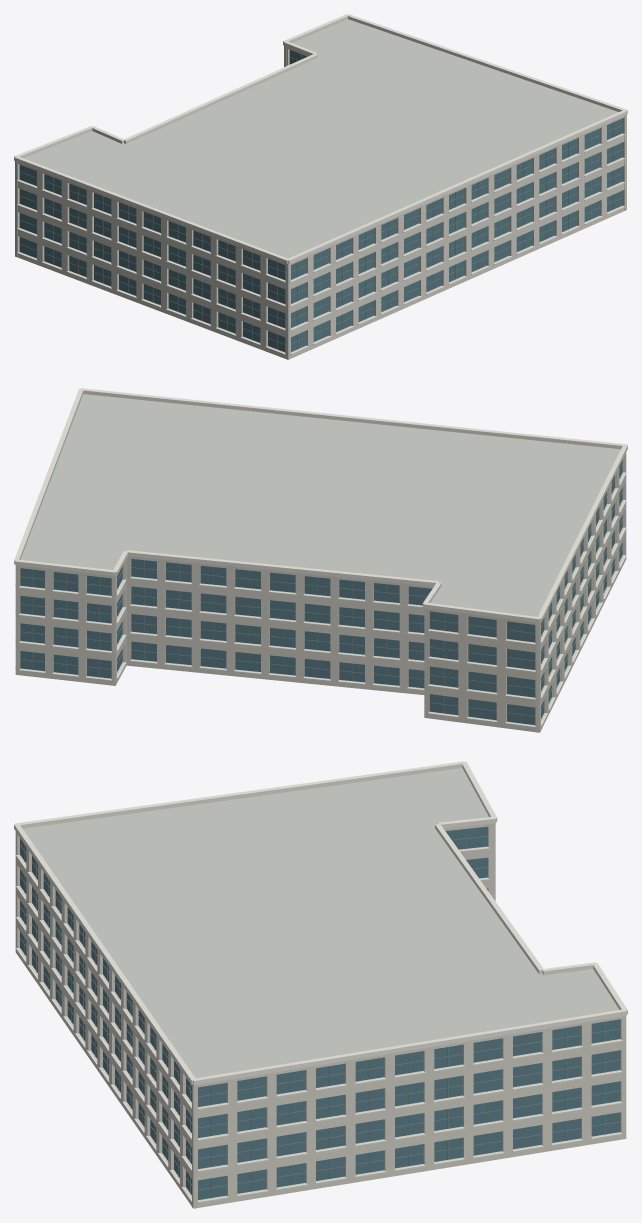
The picture shows the model from 3 angles, top to bottom: view 1: azimuth 30°, elevation 25°; view 2: azimuth 150°, elevation 25°; view 3: azimuth 270°, elevation 25°; orthographic projection. The views are drawn at different scales.
Visible parts, largest first — view 1: roof, wall, glass, trim, metal; view 2: roof, wall, glass, trim, metal; view 3: roof, wall, glass, trim, metal.
Part boxes in pixels (x1,y1,x2,y2): roof: (23, 19, 618, 258); wall: (15, 46, 626, 359); glass: (19, 50, 622, 352); trim: (14, 14, 627, 354); metal: (19, 54, 622, 349); roof: (20, 394, 620, 616); wall: (15, 453, 626, 732); glass: (20, 460, 622, 725); trim: (14, 388, 627, 727); metal: (20, 463, 623, 723); roof: (23, 768, 619, 1078); wall: (15, 823, 626, 1208); glass: (20, 826, 620, 1199); trim: (14, 761, 627, 1202); metal: (19, 829, 620, 1197).
Size of the model in its own units: 69.67 by 13.04 by 56.52.
